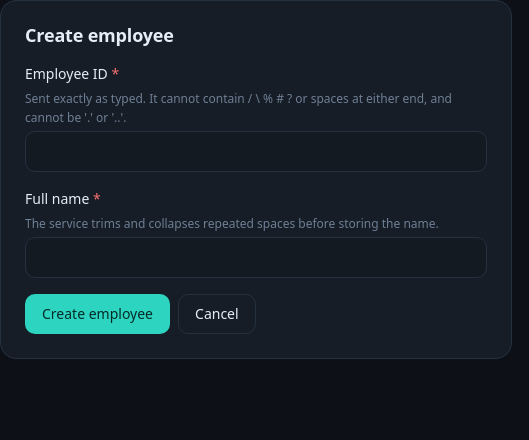
Test: create employee form › keeps a validation error it cannot map
The image size is (529, 440).
Type "EMP-1" into the field labelled "Employee ID *".
click(256, 152); type("EMP-1")  # box top-left (25, 131), bottom-right (487, 172)
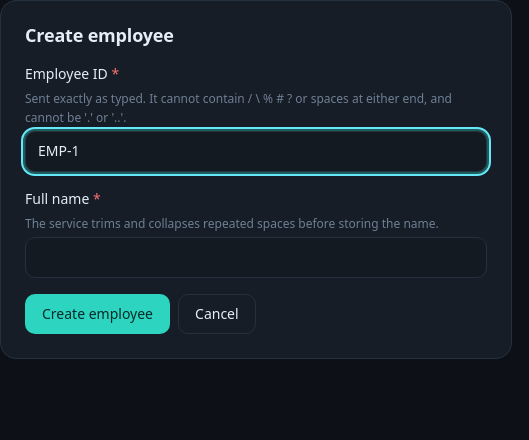
Type "Ada Example" into the field labelled "Full name *".
click(256, 258); type("Ada Example")  # box top-left (25, 237), bottom-right (487, 278)
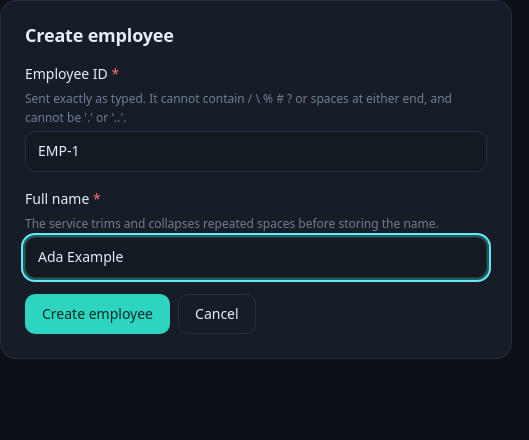
Click the button "Create employee".
click(98, 314)  # box top-left (25, 294), bottom-right (170, 334)
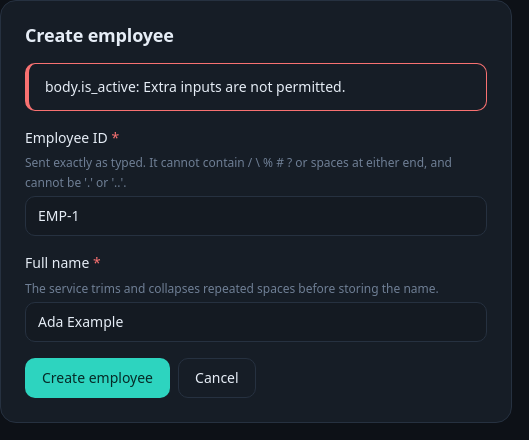
Expected: the message shows "body.is_active", top-left (45, 77), bottom-right (345, 96)
Expected: the message shows "Extra inputs are not permitted.", top-left (45, 77), bottom-right (345, 96)
